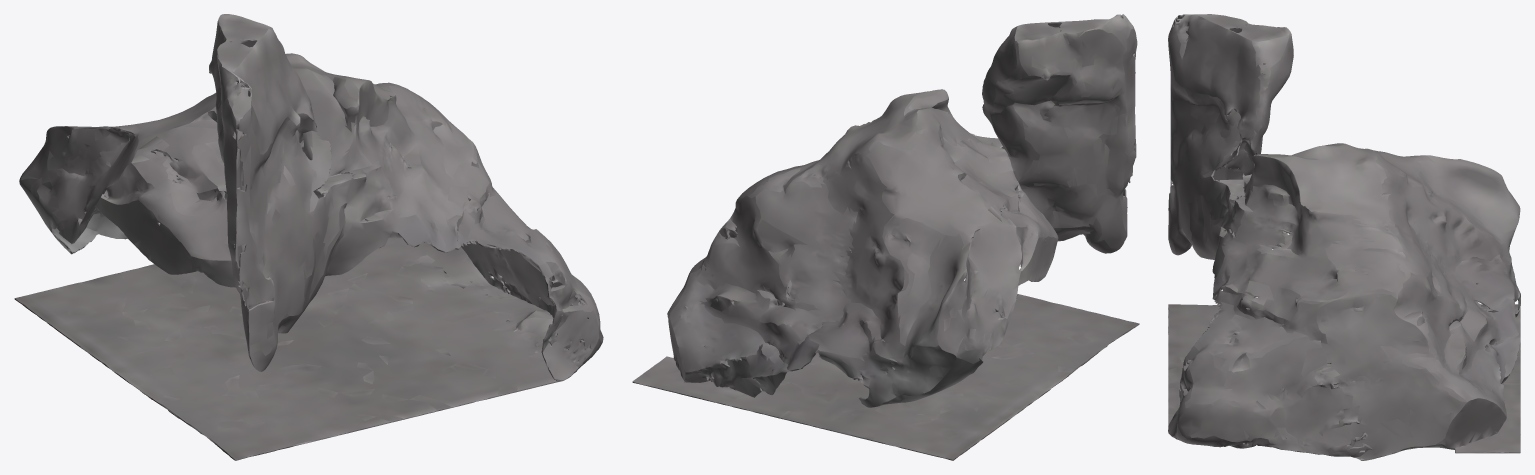
The picture shows the model from 3 angles, left to right: view 1: azimuth 30°, elevation 25°; view 2: azimuth 150°, elevation 25°; view 3: azimuth 270°, elevation 25°; orthographic projection. The views are drawn at different scales.
Parts seen in each view (by area): view 1: world; view 2: world; view 3: world.
Boxes of the visible parts, x1,y1,x2,y2 form: world: (14,14,603,460); world: (632,14,1139,460); world: (1168,14,1520,460).
Size of the model in its own units: 0.35 by 0.3375 by 0.35.
1 material, 1 textured.
